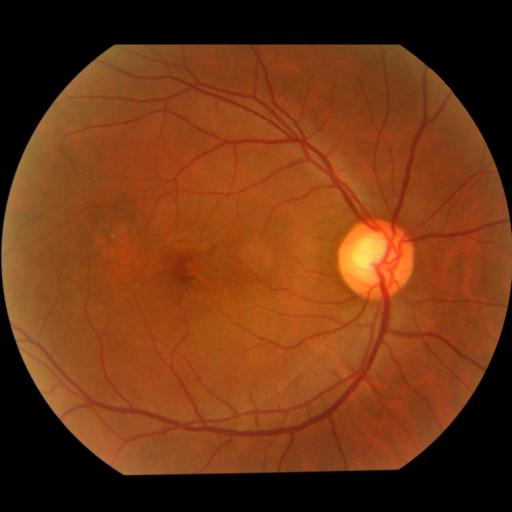Optic Cup: (351, 232, 392, 276)
Optic Disc: (337, 219, 414, 301)
